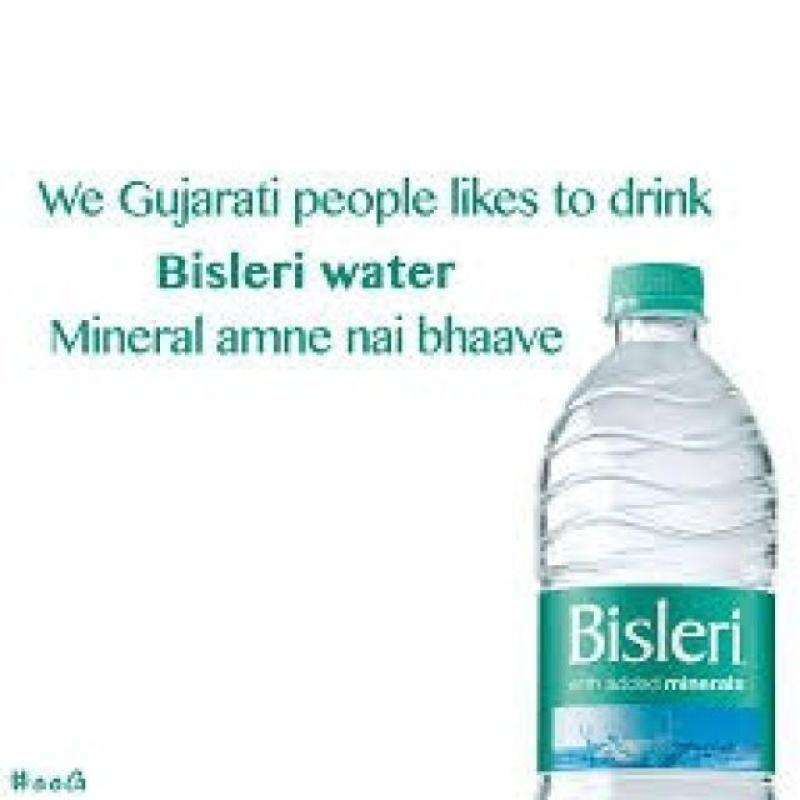botella: (535, 262, 777, 800)
